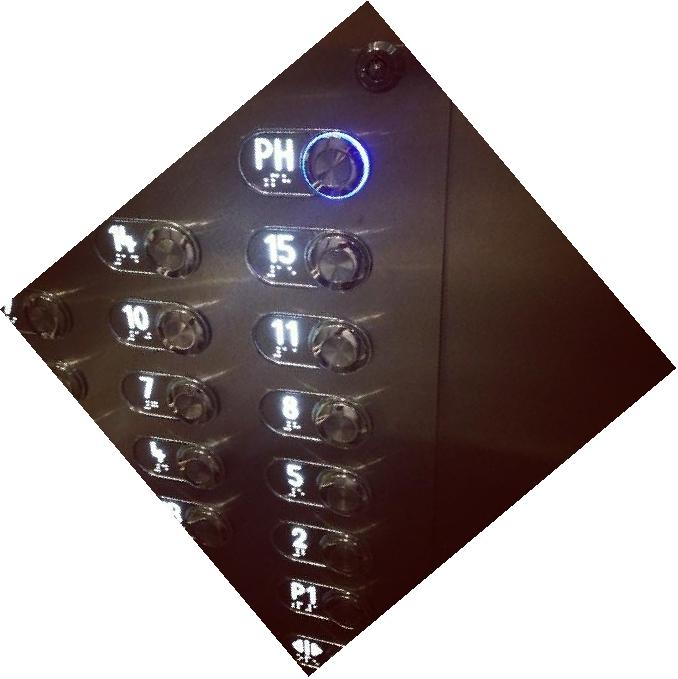10: (103, 293, 213, 355)
11: (251, 307, 375, 376)
14: (93, 215, 203, 277)
15: (243, 219, 373, 291)
2: (271, 516, 372, 580)
4: (130, 433, 226, 491)
5: (262, 456, 373, 518)
7: (118, 366, 221, 427)
8: (257, 381, 373, 450)
P1: (277, 574, 365, 632)
PH: (235, 123, 373, 202)
